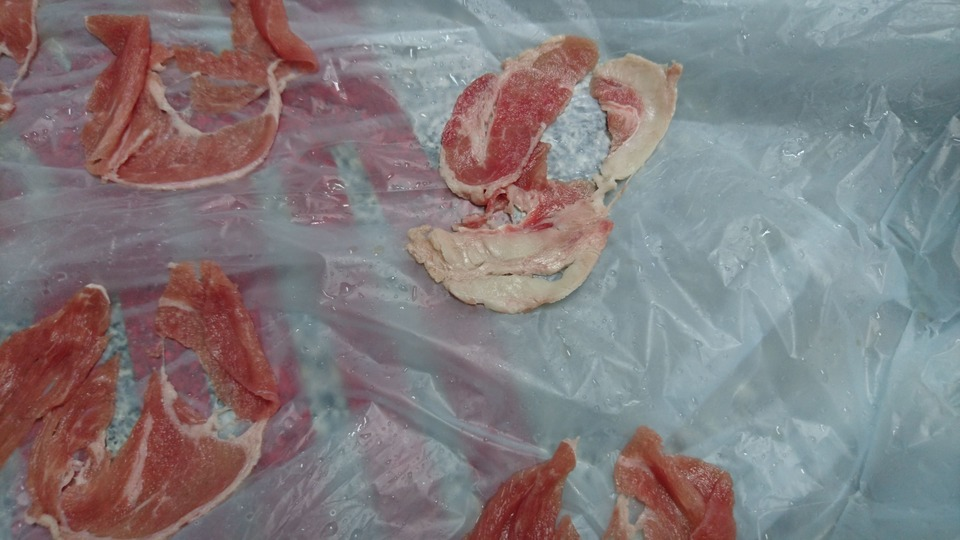restructured meat: (1, 256, 275, 540), (422, 34, 681, 316), (68, 1, 320, 191)
